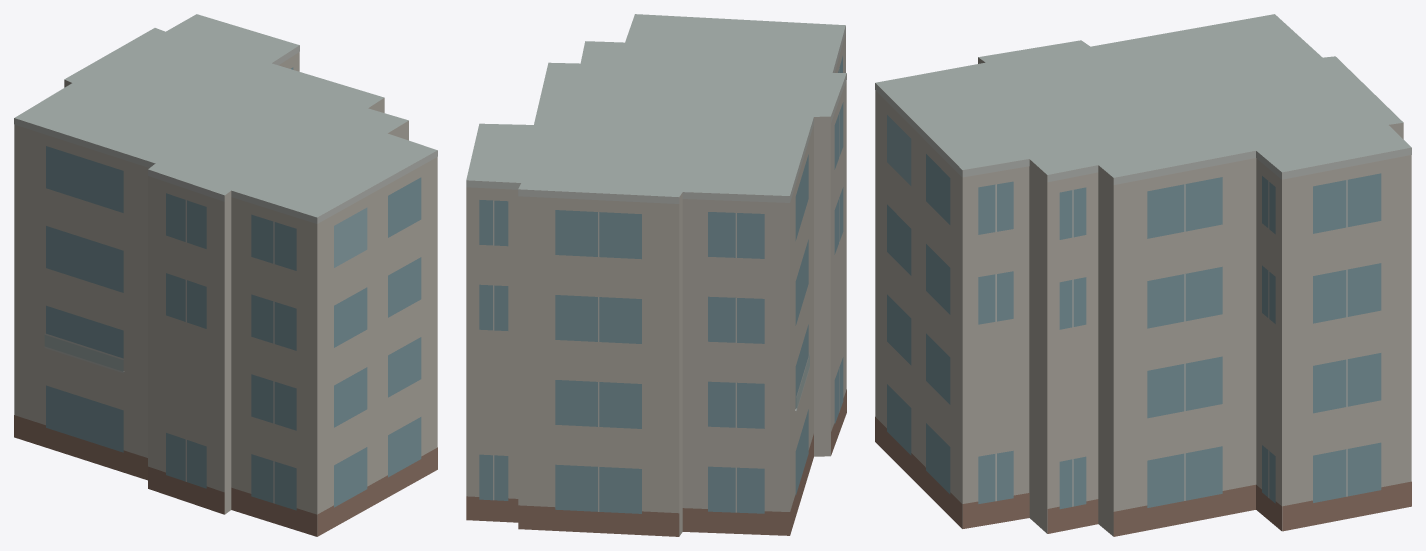
Rendered from survey-upis-32697344.glb.
The picture shows the model from 3 angles, left to right: view 1: azimuth 30°, elevation 25°; view 2: azimuth 150°, elevation 25°; view 3: azimuth 270°, elevation 25°; orthographic projection. The views are drawn at different scales.
Visible parts, largest first — view 1: survey-upis-32697344.tmp; view 2: survey-upis-32697344.tmp; view 3: survey-upis-32697344.tmp.
Boxes of the visible parts, bbox=[...] form: survey-upis-32697344.tmp: bbox=[14, 14, 437, 536]; survey-upis-32697344.tmp: bbox=[466, 14, 846, 536]; survey-upis-32697344.tmp: bbox=[875, 14, 1411, 536].
Bounding box in the file's own units: 11.76 × 12 × 16.27.
